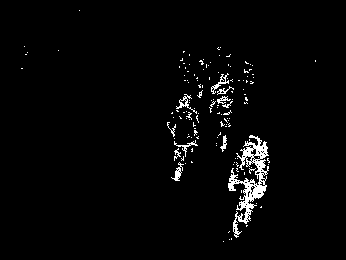person: (232, 133, 270, 239), (165, 93, 200, 185), (212, 73, 235, 149)
